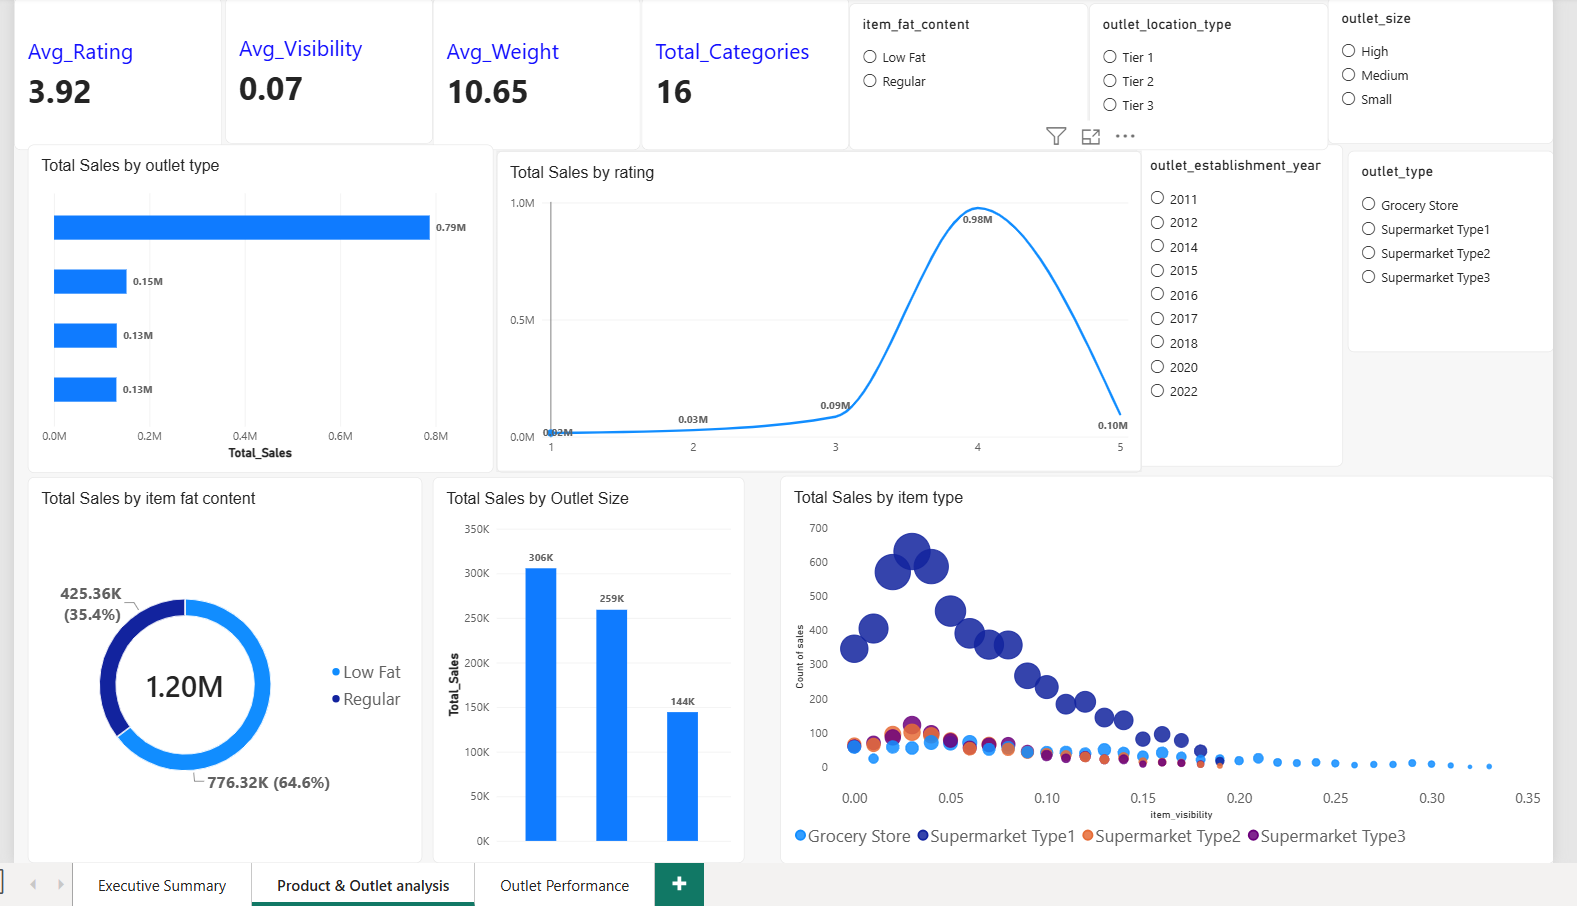

Layout of this report page (visuals, bound fields, positions):
{"tool":"powerbi","page":{"name":"Product & Outlet analysis","canvas":[1920,1080],"ordinal":1},"visuals":[{"type":"cardVisual","fields":{"Data":["BlinkIT_Grocery_Data_Raw.Avg_Rating"]},"box":[0,0,259.3,191.4],"z":0},{"type":"cardVisual","fields":{"Data":["BlinkIT_Grocery_Data_Raw.Avg_Visibility"]},"box":[263.5,0,259.3,183.2],"z":1000},{"type":"cardVisual","fields":{"Data":["BlinkIT_Grocery_Data_Raw.Avg_Weight"]},"box":[522.8,0,259.3,191.4],"z":2000},{"type":"cardVisual","fields":{"Data":["BlinkIT_Grocery_Data_Raw.Total_Categories"]},"box":[782.2,0,259.3,191.4],"z":3000},{"type":"listSlicer","fields":{"Values":["BlinkIT_Grocery_Data_Raw.outlet_establishment_year"]},"box":[1399.7,183.2,257.3,401.4],"z":4000},{"type":"listSlicer","fields":{"Values":["BlinkIT_Grocery_Data_Raw.outlet_type"]},"box":[1663.1,191.4,257.3,251.1],"z":5000},{"type":"listSlicer","fields":{"Values":["BlinkIT_Grocery_Data_Raw.outlet_size"]},"box":[1638.4,0,282,183.2],"z":6000},{"type":"listSlicer","fields":{"Values":["BlinkIT_Grocery_Data_Raw.item_fat_content"]},"box":[1041.5,8.2,298.5,183.2],"z":7000},{"type":"columnChart","title":"Total Sales by Outlet Size","fields":{"Category":["BlinkIT_Grocery_Data_Raw.outlet_size"],"Y":["BlinkIT_Grocery_Data_Raw.Total_Sales"]},"box":[522.8,599,389,481.6],"z":8000},{"type":"barChart","title":"Total Sales by outlet type","fields":{"Category":["BlinkIT_Grocery_Data_Raw.outlet_type"],"Y":["BlinkIT_Grocery_Data_Raw.Total_Sales"]},"box":[16.5,183.2,580.4,409.6],"z":9000},{"type":"donutChart","title":"Total Sales by item fat content","fields":{"Category":["BlinkIT_Grocery_Data_Raw.item_fat_content"],"Y":["BlinkIT_Grocery_Data_Raw.Total_Sales"]},"box":[16.5,599,491.9,481.6],"z":10000},{"type":"scatterChart","title":"Total Sales by item type","fields":{"Series":["BlinkIT_Grocery_Data_Raw.outlet_type"],"Size":["BlinkIT_Grocery_Data_Raw.Total_Sales"],"X":["BlinkIT_Grocery_Data_Raw.item_visibility"],"Y":["BlinkIT_Grocery_Data_Raw.sales"]},"box":[955.1,596.9,965.4,483.7],"z":11000},{"type":"listSlicer","fields":{"Values":["BlinkIT_Grocery_Data_Raw.outlet_location_type"]},"box":[1340,8.2,298.5,183.2],"z":11001},{"type":"lineChart","title":"Total Sales by rating","fields":{"Category":["BlinkIT_Grocery_Data_Raw.rating"],"Y":["BlinkIT_Grocery_Data_Raw.Total_Sales"]},"box":[601,191.4,804.8,401.4],"z":11002}]}

Visuals, with their boxes on the page's 1920x1080 design canvas (x1, y1, x2, y2). These are canvas units, not pixel positions in the 1577x906 screenshot, which may show the page scaled, cropped or inside an application window:
cardVisual - BlinkIT_Grocery_Data_Raw.Avg_Rating: BBox(0, 0, 259, 191)
cardVisual - BlinkIT_Grocery_Data_Raw.Avg_Visibility: BBox(264, 0, 523, 183)
cardVisual - BlinkIT_Grocery_Data_Raw.Avg_Weight: BBox(523, 0, 782, 191)
cardVisual - BlinkIT_Grocery_Data_Raw.Total_Categories: BBox(782, 0, 1042, 191)
listSlicer - BlinkIT_Grocery_Data_Raw.outlet_establishment_year: BBox(1400, 183, 1657, 585)
listSlicer - BlinkIT_Grocery_Data_Raw.outlet_type: BBox(1663, 191, 1920, 442)
listSlicer - BlinkIT_Grocery_Data_Raw.outlet_size: BBox(1638, 0, 1920, 183)
listSlicer - BlinkIT_Grocery_Data_Raw.item_fat_content: BBox(1042, 8, 1340, 191)
"Total Sales by Outlet Size" columnChart: BBox(523, 599, 912, 1081)
"Total Sales by outlet type" barChart: BBox(16, 183, 597, 593)
"Total Sales by item fat content" donutChart: BBox(16, 599, 508, 1081)
"Total Sales by item type" scatterChart: BBox(955, 597, 1920, 1081)
listSlicer - BlinkIT_Grocery_Data_Raw.outlet_location_type: BBox(1340, 8, 1638, 191)
"Total Sales by rating" lineChart: BBox(601, 191, 1406, 593)
